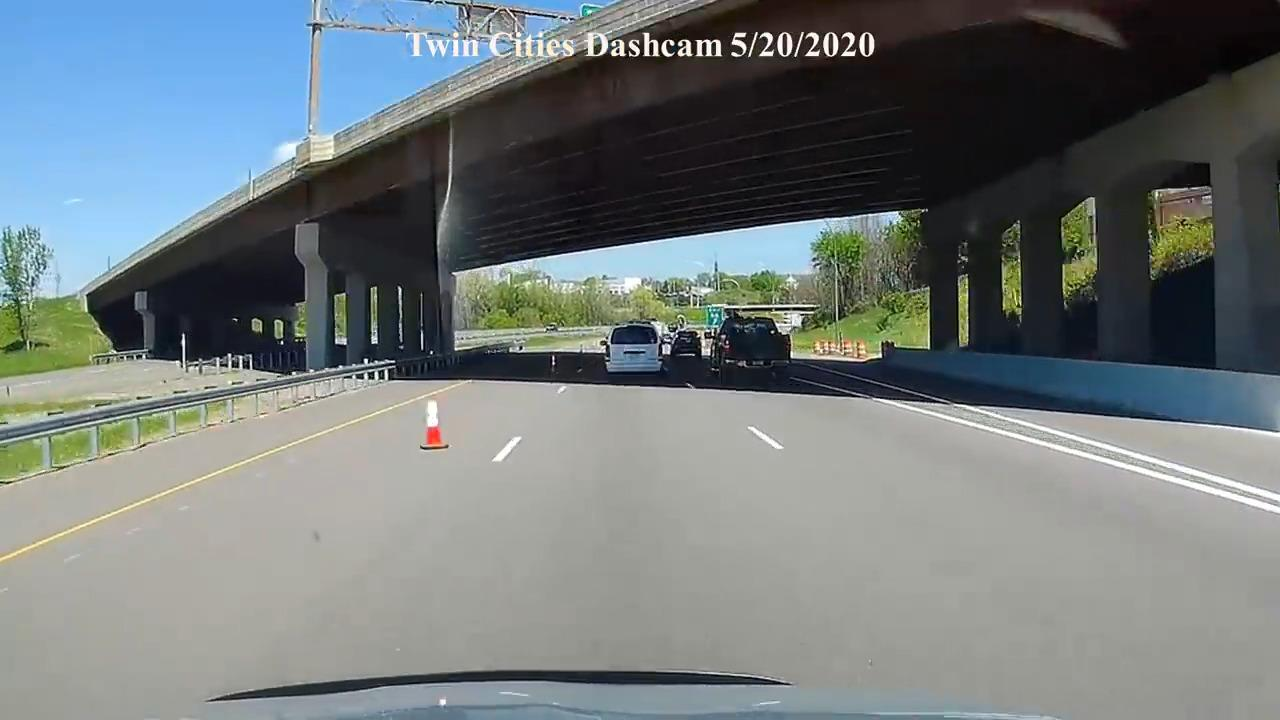car: (708, 314, 792, 386), (601, 321, 666, 376), (670, 330, 701, 359)
traffic cone: (419, 400, 449, 451)
